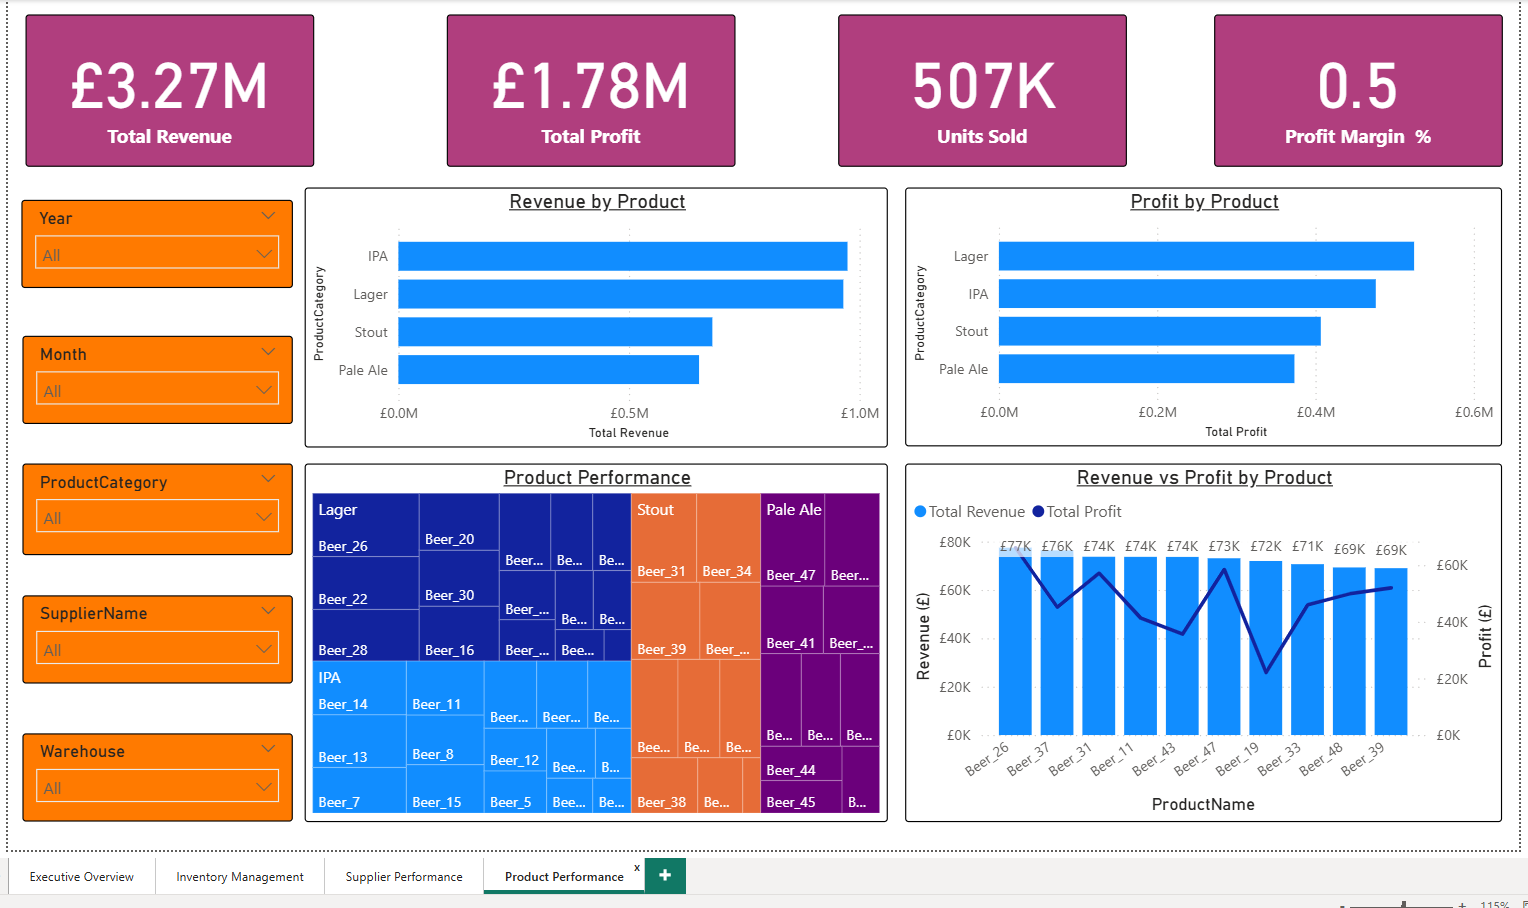

What the dashboard file says about the page in this screenshot:
{"tool":"powerbi","page":{"name":"Product Performance","canvas":[1280,720],"ordinal":3},"visuals":[{"type":"card","fields":{"Values":["Measure.Total Revenue"]},"box":[15.2,12.5,244.5,129],"z":0},{"type":"card","fields":{"Values":["Measure.Total Profit"]},"box":[371.7,12.5,244.5,129],"z":1000},{"type":"card","fields":{"Values":["Measure.Units Sold"]},"box":[703.1,12.5,244.5,129],"z":2000},{"type":"card","fields":{"Values":["Measure.Profit Margin  %"]},"box":[1021.9,12.5,244.5,129],"z":3000},{"type":"slicer","fields":{"Values":["DimDate.Year"]},"box":[11.6,169.3,230.2,75.2],"z":4000},{"type":"slicer","fields":{"Values":["DimDate.Month"]},"box":[12.5,284.8,229.3,75.2],"z":5000},{"type":"slicer","fields":{"Values":["Dimproduct.ProductCategory"]},"box":[12.5,393.2,229.3,77.9],"z":6000},{"type":"slicer","fields":{"Values":["DimSupplier.SupplierName"]},"box":[12.5,504.2,229.3,75.2],"z":7000},{"type":"slicer","fields":{"Values":["FactInventory.Warehouse"]},"box":[12.5,621.6,229.3,75.2],"z":8000},{"type":"clusteredBarChart","title":"Revenue by Product","fields":{"Y":["Measure.Total Revenue"],"Category":["Dimproduct.ProductCategory"]},"box":[251.7,158.5,494.4,220.3],"z":9000},{"type":"clusteredBarChart","title":"Profit by Product","fields":{"Category":["Dimproduct.ProductCategory"],"Y":["Measure.Total Profit"]},"box":[760.4,158.5,506,219.4],"z":10000},{"type":"treemap","title":"Product Performance","fields":{"Group":["Dimproduct.ProductCategory"],"Values":["Measure.Total Profit"],"Details":["Dimproduct.ProductName"]},"box":[251.7,393.2,494.4,303.6],"z":11000},{"type":"lineStackedColumnComboChart","title":"Revenue vs Profit by Product","fields":{"Category":["Dimproduct.ProductName"],"Y":["Measure.Total Revenue"],"Y2":["Measure.Total Profit"]},"box":[760,393,506,304],"z":12000}]}

Visuals, with their boxes in screenshot pixels (x1, y1, x2, y2):
card - Measure.Total Revenue: [x1=22, y1=11, x2=310, y2=163]
card - Measure.Total Profit: [x1=442, y1=11, x2=729, y2=163]
card - Measure.Units Sold: [x1=832, y1=11, x2=1120, y2=163]
card - Measure.Profit Margin  %: [x1=1207, y1=11, x2=1495, y2=163]
slicer - DimDate.Year: [x1=18, y1=195, x2=289, y2=284]
slicer - DimDate.Month: [x1=19, y1=331, x2=289, y2=420]
slicer - Dimproduct.ProductCategory: [x1=19, y1=459, x2=289, y2=551]
slicer - DimSupplier.SupplierName: [x1=19, y1=590, x2=289, y2=678]
slicer - FactInventory.Warehouse: [x1=19, y1=728, x2=289, y2=816]
"Revenue by Product" clusteredBarChart: [x1=300, y1=183, x2=882, y2=442]
"Profit by Product" clusteredBarChart: [x1=899, y1=183, x2=1495, y2=441]
"Product Performance" treemap: [x1=300, y1=459, x2=882, y2=816]
"Revenue vs Profit by Product" lineStackedColumnComboChart: [x1=899, y1=459, x2=1494, y2=817]
